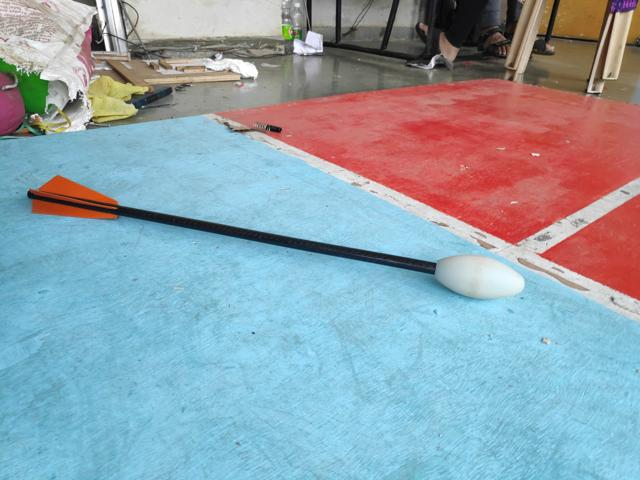Head: (427, 253, 528, 301)
Tail: (23, 172, 122, 225)
